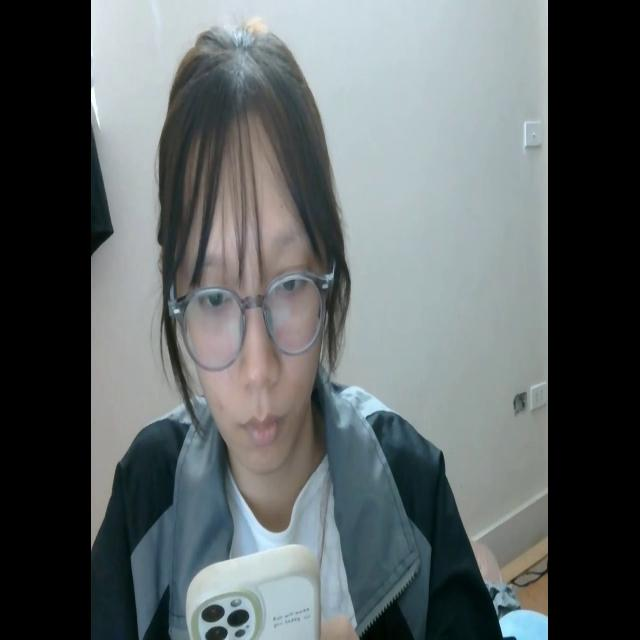phone: (186, 541, 325, 640)
student: (93, 21, 505, 640)
